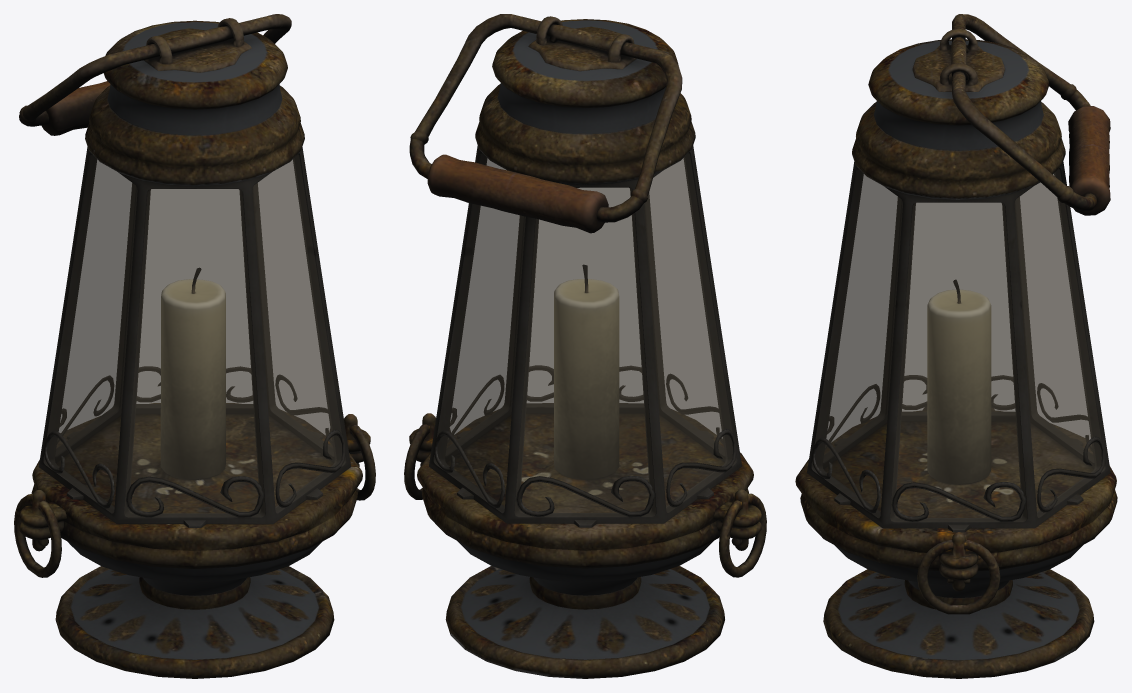
File: obj_old_candle_holder_6d5c18.glb
The picture shows the model from 3 angles, left to right: view 1: azimuth 30°, elevation 25°; view 2: azimuth 150°, elevation 25°; view 3: azimuth 270°, elevation 25°; orthographic projection. The views are drawn at different scales.
Visible parts, largest first — view 1: obj_old_candle_holder_6d5c18; view 2: obj_old_candle_holder_6d5c18; view 3: obj_old_candle_holder_6d5c18.
Boxes of the visible parts, <box> form: obj_old_candle_holder_6d5c18: <box>14,14,375,678</box>; obj_old_candle_holder_6d5c18: <box>404,14,766,678</box>; obj_old_candle_holder_6d5c18: <box>795,14,1117,678</box>.
Bounding box in the file's own units: 0.2145 × 0.35 × 0.1777.
2 materials, 2 textured.
